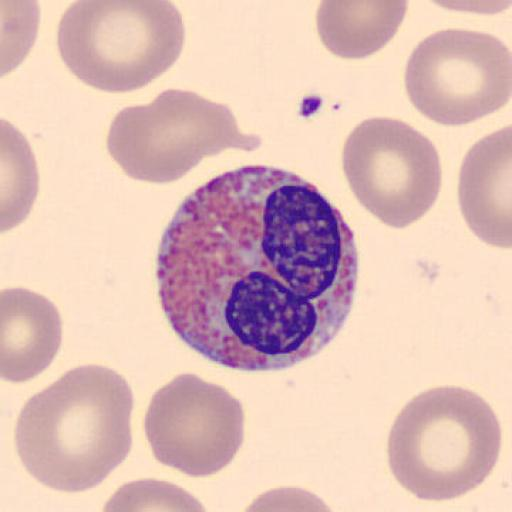RBC: (14, 362, 134, 496), (384, 383, 503, 503), (105, 86, 241, 186), (56, 0, 186, 95), (340, 114, 444, 232), (141, 370, 246, 479), (402, 26, 512, 128), (456, 123, 512, 251), (1, 285, 64, 385), (313, 1, 409, 61), (2, 117, 42, 236), (99, 475, 214, 512), (1, 0, 42, 79), (237, 484, 343, 512), (424, 0, 512, 17), (459, 0, 512, 17)
WBC: (154, 164, 360, 372)
